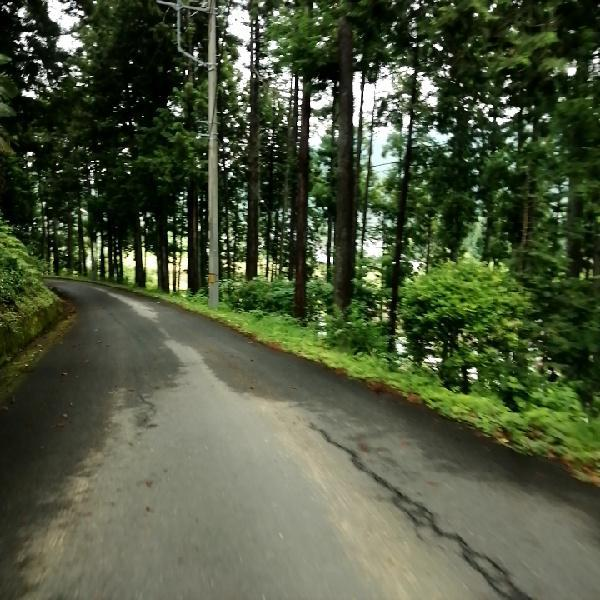D00: (306, 393, 552, 595), (117, 382, 161, 442)
